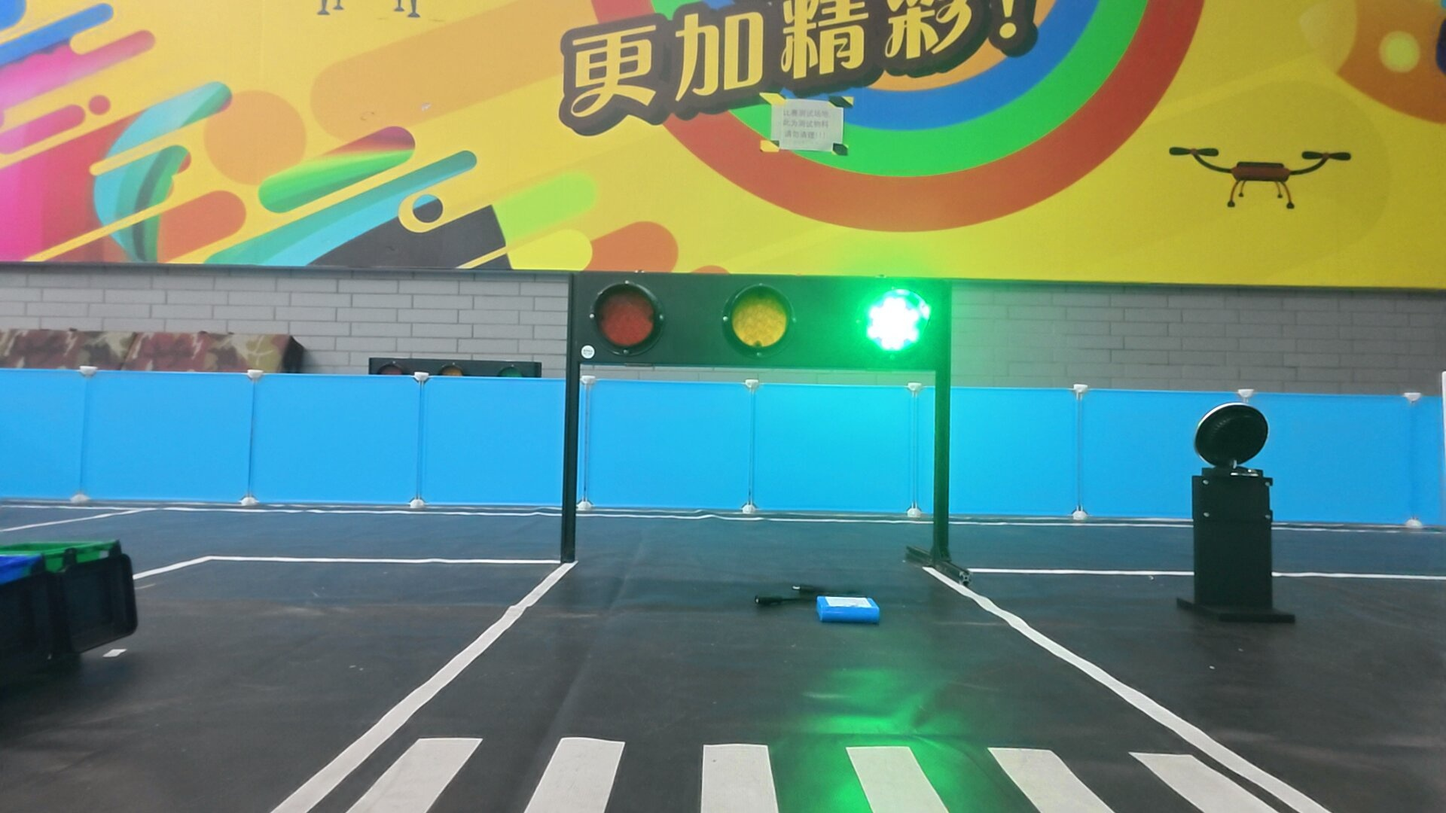go: (860, 283, 934, 362)
